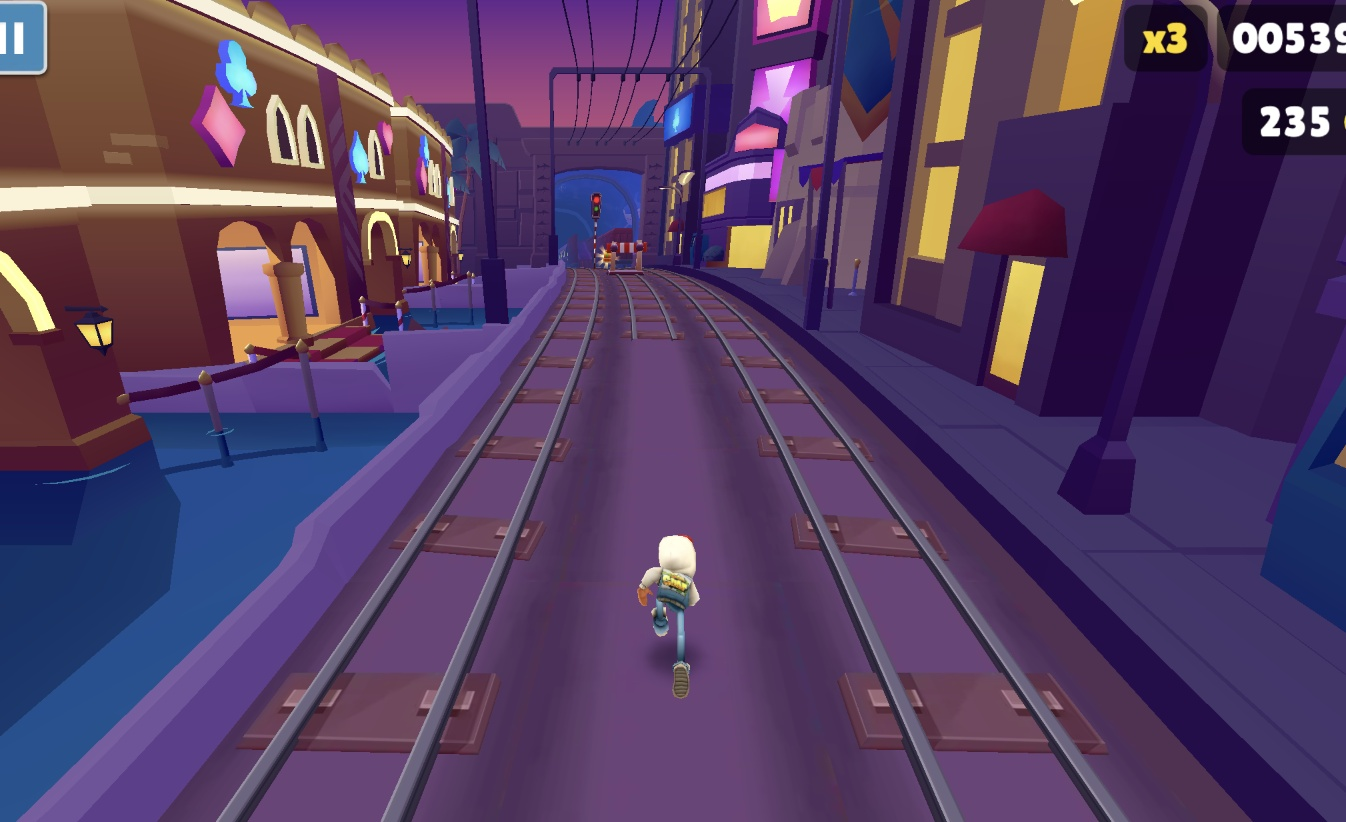ground_barrier: (608, 239, 648, 274)
train: (611, 227, 643, 243)
